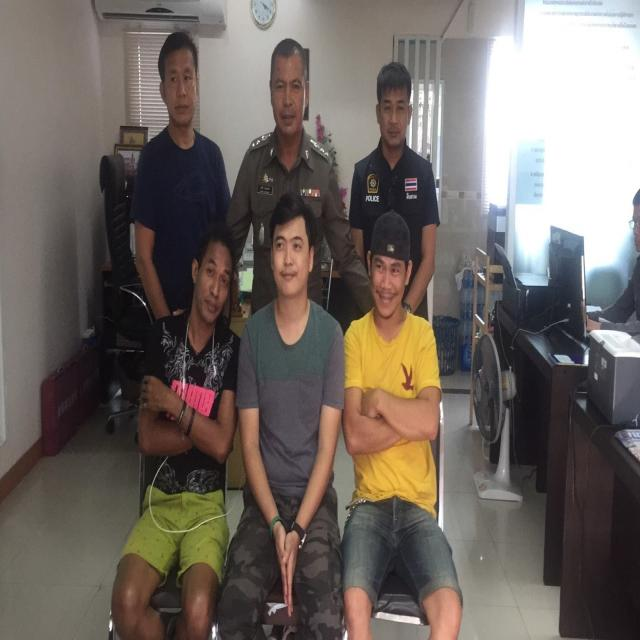body: (107, 214, 256, 639), (215, 190, 345, 640), (172, 34, 374, 322), (334, 204, 466, 639), (132, 29, 234, 324), (346, 58, 442, 323), (581, 178, 640, 342)
